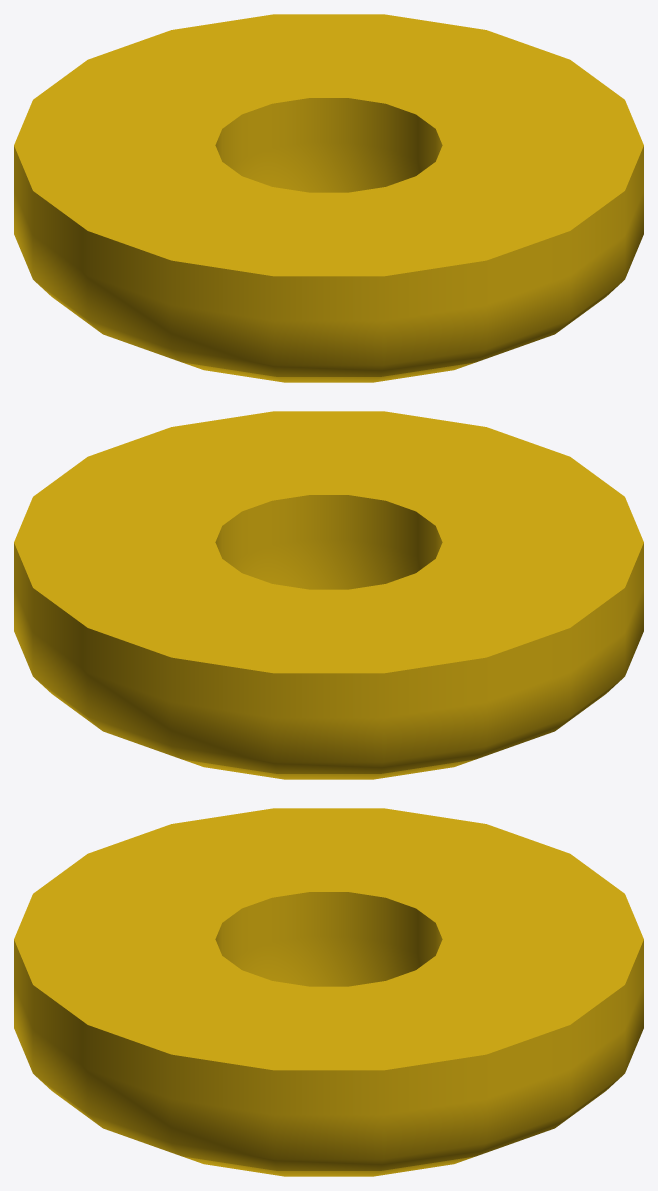
The model's file is big_socket.fbx.
3 views of the same model, one above another, from view 1: azimuth 30°, elevation 25°; view 2: azimuth 150°, elevation 25°; view 3: azimuth 270°, elevation 25° (orthographic).
Parts seen in each view (by area): view 1: big_socket; view 2: big_socket; view 3: big_socket.
Part boxes in pixels (bbox=[...]): big_socket: bbox=[14, 14, 643, 382]; big_socket: bbox=[14, 411, 643, 779]; big_socket: bbox=[14, 808, 643, 1176].
Bounding box in the file's own units: 30.35 × 7.19 × 30.81.
